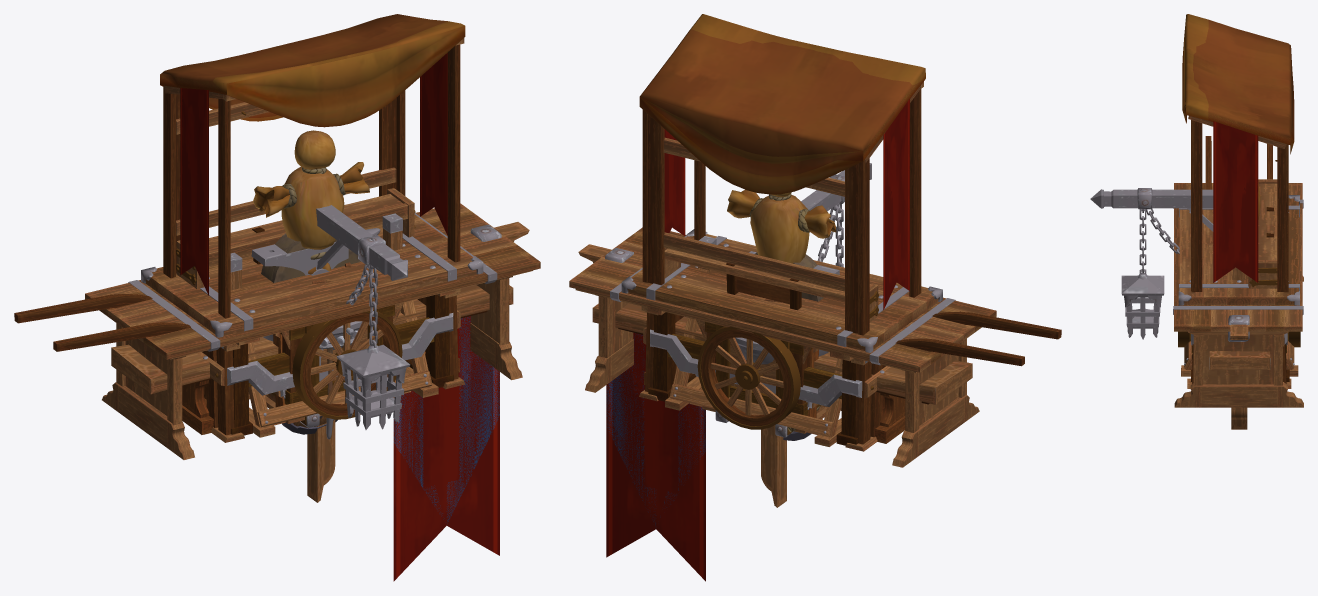
The model's file is kit-props.glb.
3 views of the same model, side by side, from view 1: azimuth 30°, elevation 25°; view 2: azimuth 150°, elevation 25°; view 3: azimuth 270°, elevation 25° (orthographic). The views are drawn at different scales.
Parts seen in each view (by area): view 1: Stall_Cart_Empty, Stall_Empty, Banner_1, Table_Large, Workbench, Lantern_Wall, Dummy, Bench, Banner_2, WeaponStand, Anvil_Log, Crate_Wooden (+1 smaller); view 2: Stall_Empty, Stall_Cart_Empty, Banner_1, Table_Large, Workbench, Bench, Dummy, WeaponStand, Banner_2, Crate_Wooden, Lantern_Wall, Chair_1 (+1 smaller); view 3: Stall_Empty, Table_Large, Stall_Cart_Empty, Workbench, Lantern_Wall, Bench, Banner_1, WeaponStand.
Part boxes in pixels (x1,y1,x2,y2): Stall_Cart_Empty: [14, 21, 465, 427]; Stall_Empty: [160, 14, 464, 442]; Banner_1: [307, 222, 529, 581]; Table_Large: [85, 203, 540, 459]; Workbench: [141, 214, 483, 435]; Lantern_Wall: [316, 205, 410, 429]; Dummy: [253, 130, 369, 274]; Bench: [111, 285, 513, 434]; Banner_2: [393, 317, 499, 523]; WeaponStand: [230, 213, 438, 437]; Anvil_Log: [251, 228, 380, 394]; Crate_Wooden: [265, 304, 394, 427]; Stall_Empty: [639, 29, 925, 451]; Stall_Cart_Empty: [640, 14, 1061, 437]; Banner_1: [578, 244, 786, 581]; Table_Large: [569, 227, 996, 467]; Workbench: [621, 229, 942, 445]; Bench: [592, 303, 972, 443]; Dummy: [727, 189, 836, 263]; WeaponStand: [665, 236, 842, 446]; Banner_2: [606, 333, 705, 525]; Crate_Wooden: [702, 322, 826, 437]; Lantern_Wall: [801, 163, 871, 267]; Chair_1: [726, 263, 801, 310]; Stall_Empty: [1186, 19, 1294, 388]; Table_Large: [1173, 183, 1303, 407]; Stall_Cart_Empty: [1178, 14, 1300, 347]; Workbench: [1178, 195, 1299, 381]; Lantern_Wall: [1090, 188, 1213, 339]; Bench: [1209, 351, 1270, 369]; Banner_1: [1228, 315, 1249, 429]; WeaponStand: [1181, 267, 1298, 376].
Bounding box in the file's own units: 3.72 × 4.18 × 1.79.
7 materials, 7 textured.
